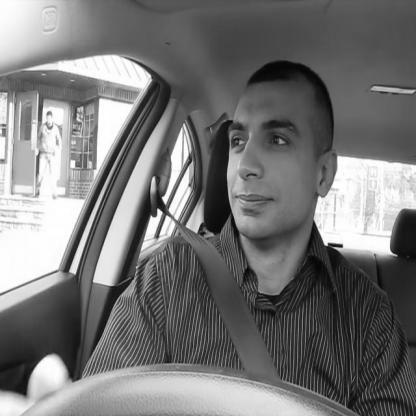seatbelt: (143, 51, 346, 403)
